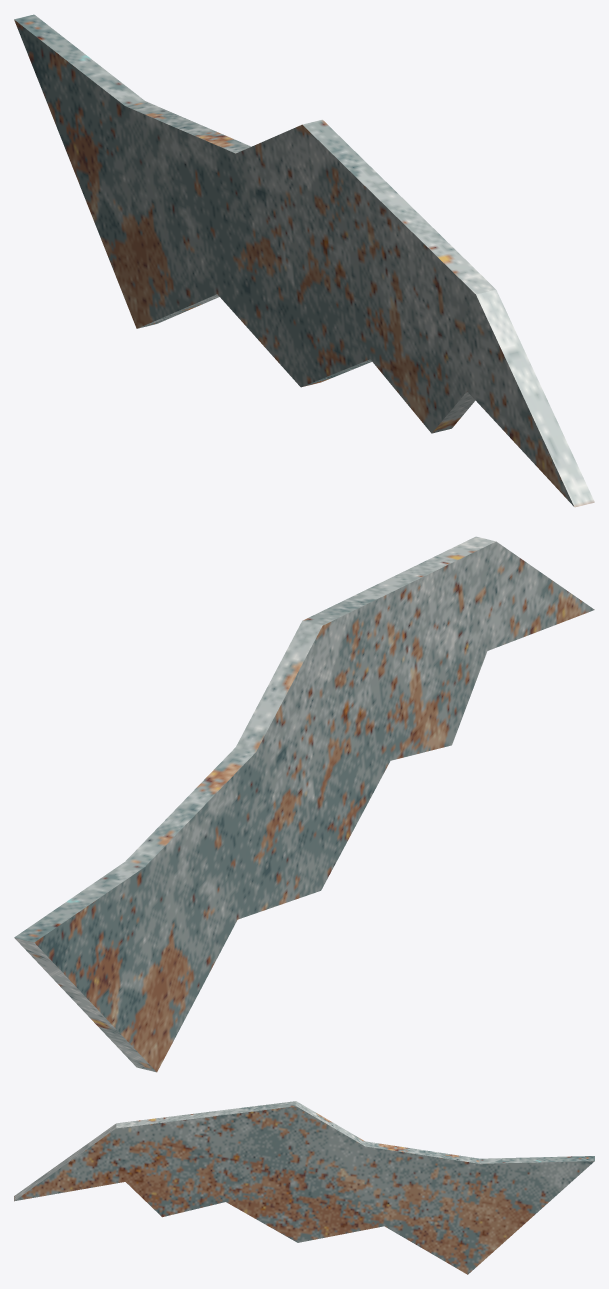
File: sharp_metal.glb
3 views of the same model, one above another, from view 1: azimuth 30°, elevation 25°; view 2: azimuth 150°, elevation 25°; view 3: azimuth 270°, elevation 25° (orthographic). The views are drawn at different scales.
Parts seen in each view (by area): view 1: Cube; view 2: Cube; view 3: Cube.
Boxes of the visible parts, <box> form: Cube: <box>14,14,594,507</box>; Cube: <box>14,536,594,1072</box>; Cube: <box>14,1101,594,1274</box>.
Size of the model in its own units: 0.03 by 0.4585 by 1.43.
1 material, 1 textured.
